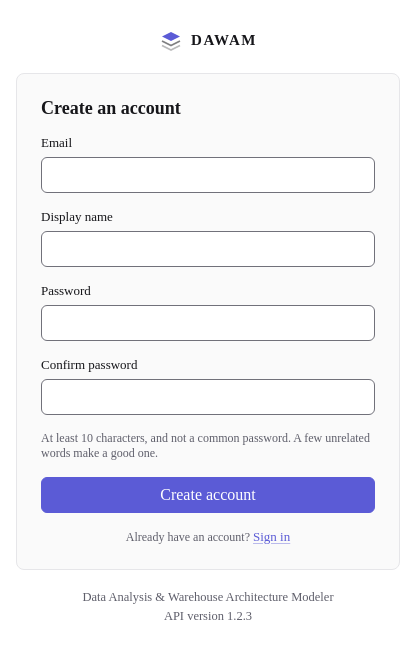
Test case: signing up › shows the API's message when the email's domain is not allowed
Type "grace@example.com" into the field labelled "Email" at (208, 174), box [41,156,375,192]
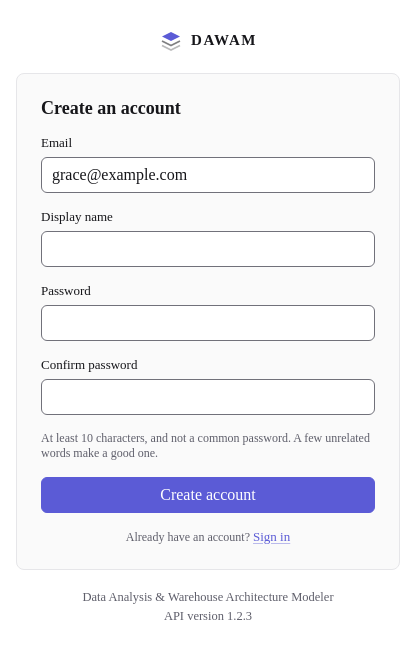
Type "Grace Hopper" into the field labelled "Display name" at (208, 248), box [41,230,375,266]
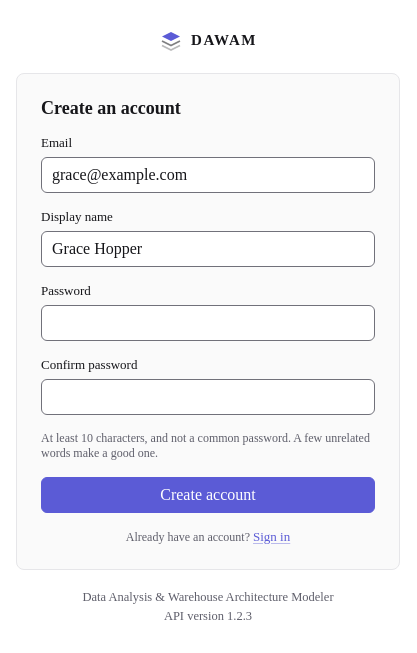
Type "my own long passphrase" into the password field labelled "Password" at (208, 322), box [41,304,375,340]
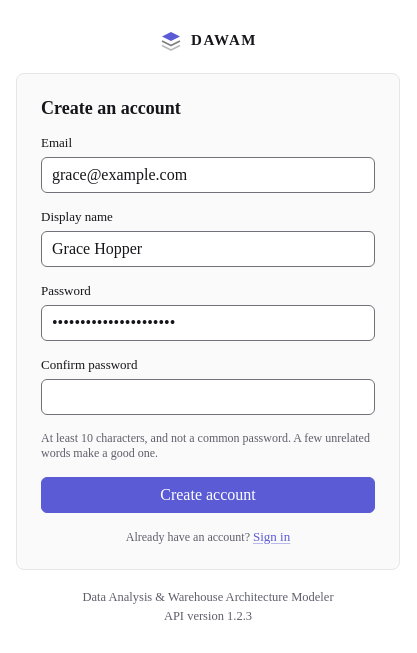
Type "my own long passphrase" into the password field labelled "Confirm password" at (208, 396), box [41,378,375,414]
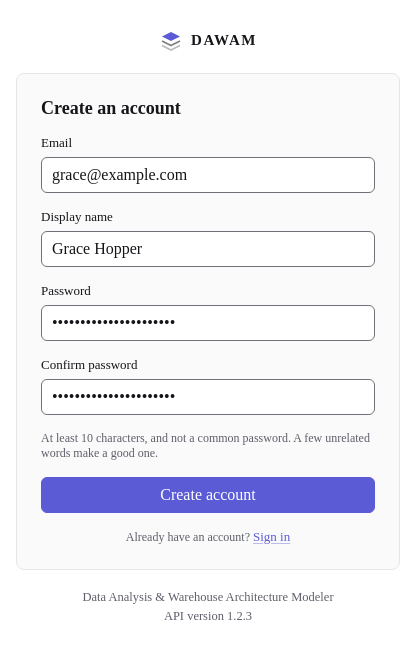
Click the button "Create account" at (208, 494), box [41,476,375,512]
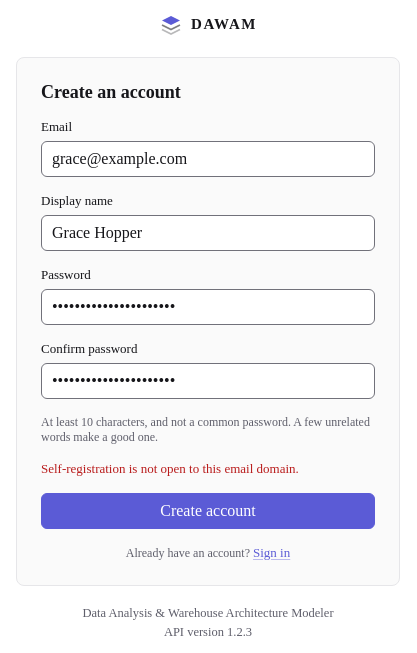
Check: the message reads "Self-registration is not open to this email domain.", box [41,460,299,476]
